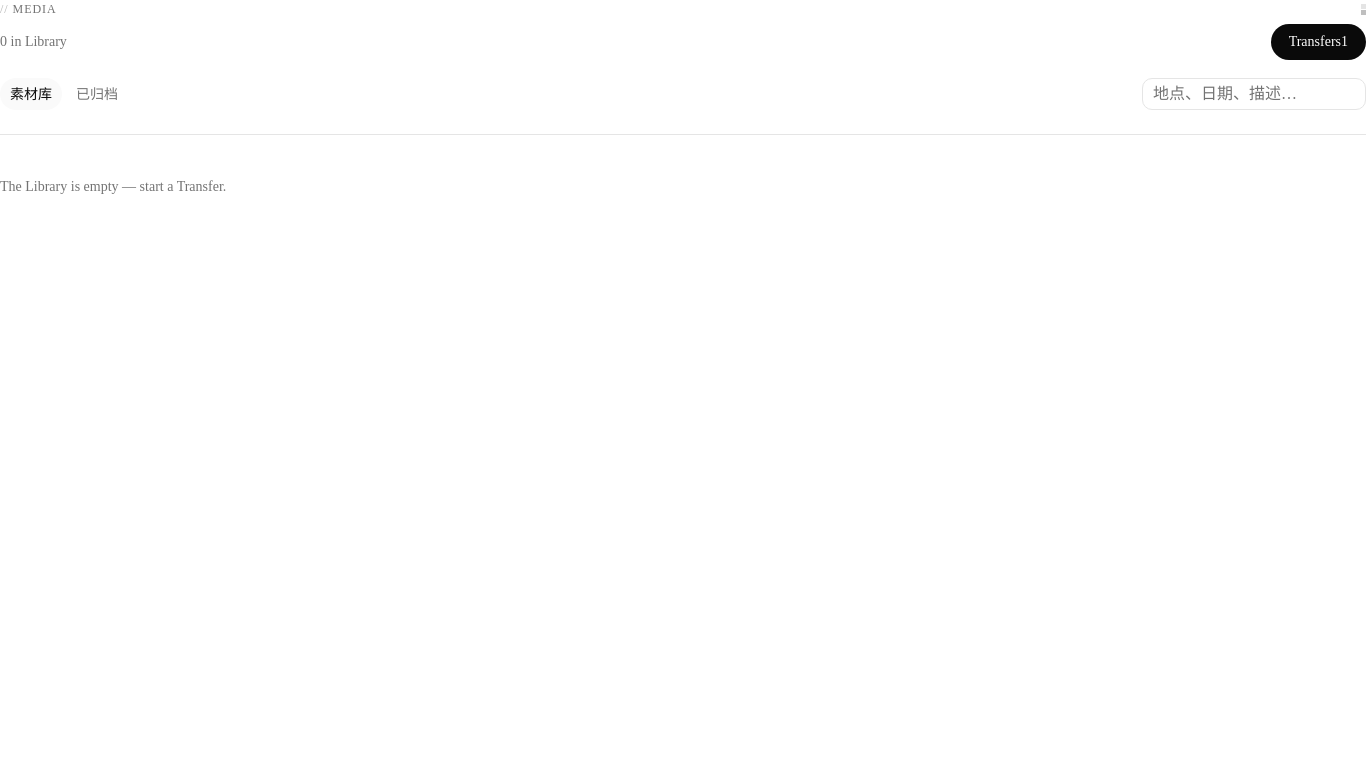
Test case: Media archive UI contract › keeps Discard available while a Transfer Job is processing
Click the button "Transfers1". click: click(1318, 42)
box: [1271, 24, 1365, 60]
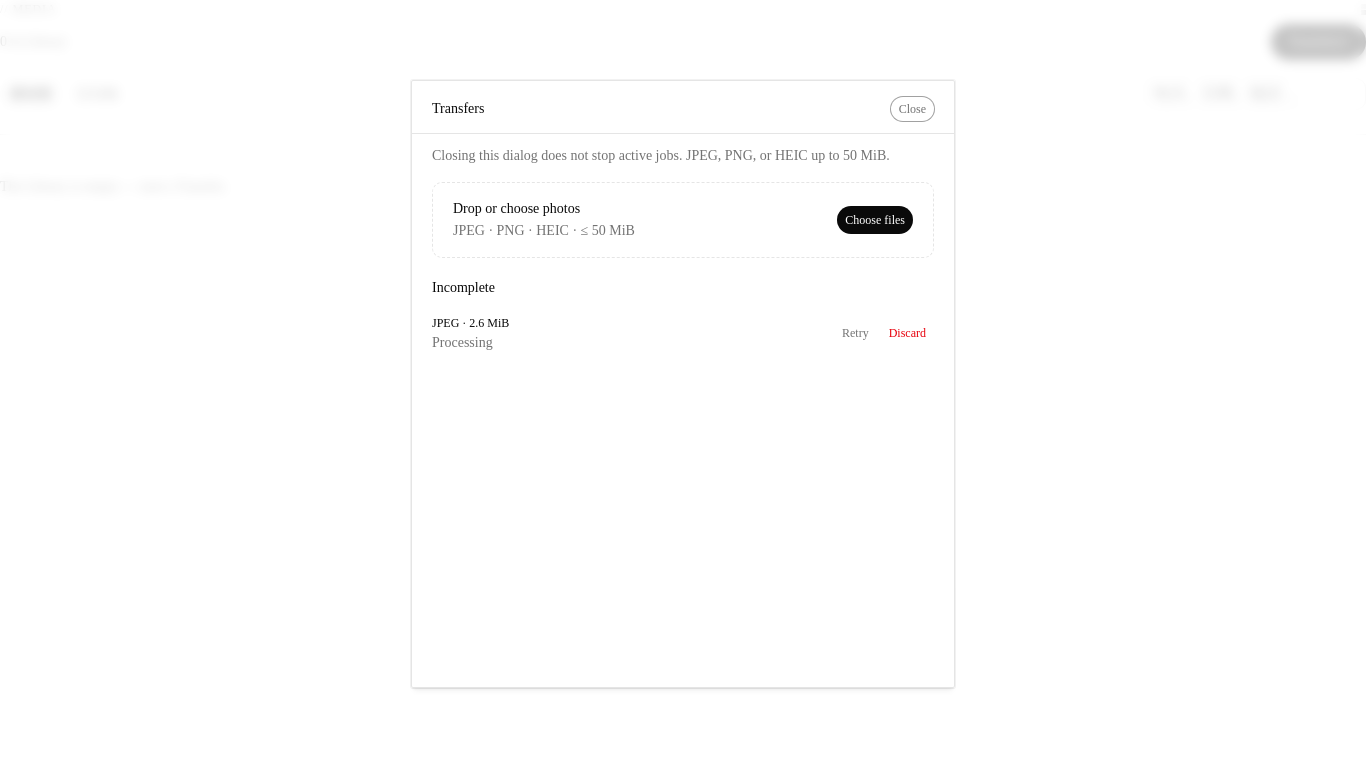
Expected: the button "Discard" is shown, [881, 322, 934, 346]
